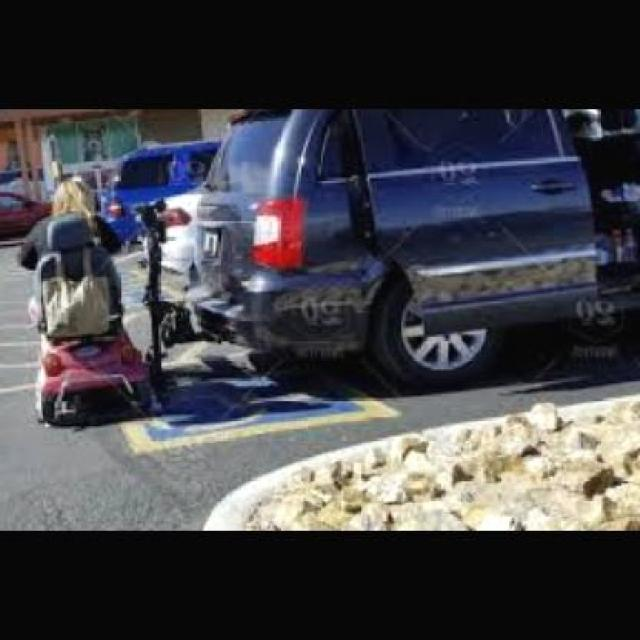wheelchairs: (19, 207, 174, 431)
